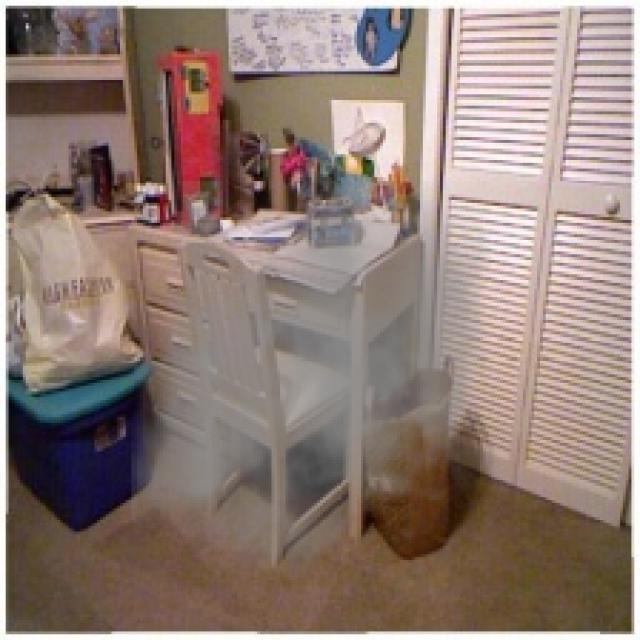Smoke: (132, 179, 492, 592)
